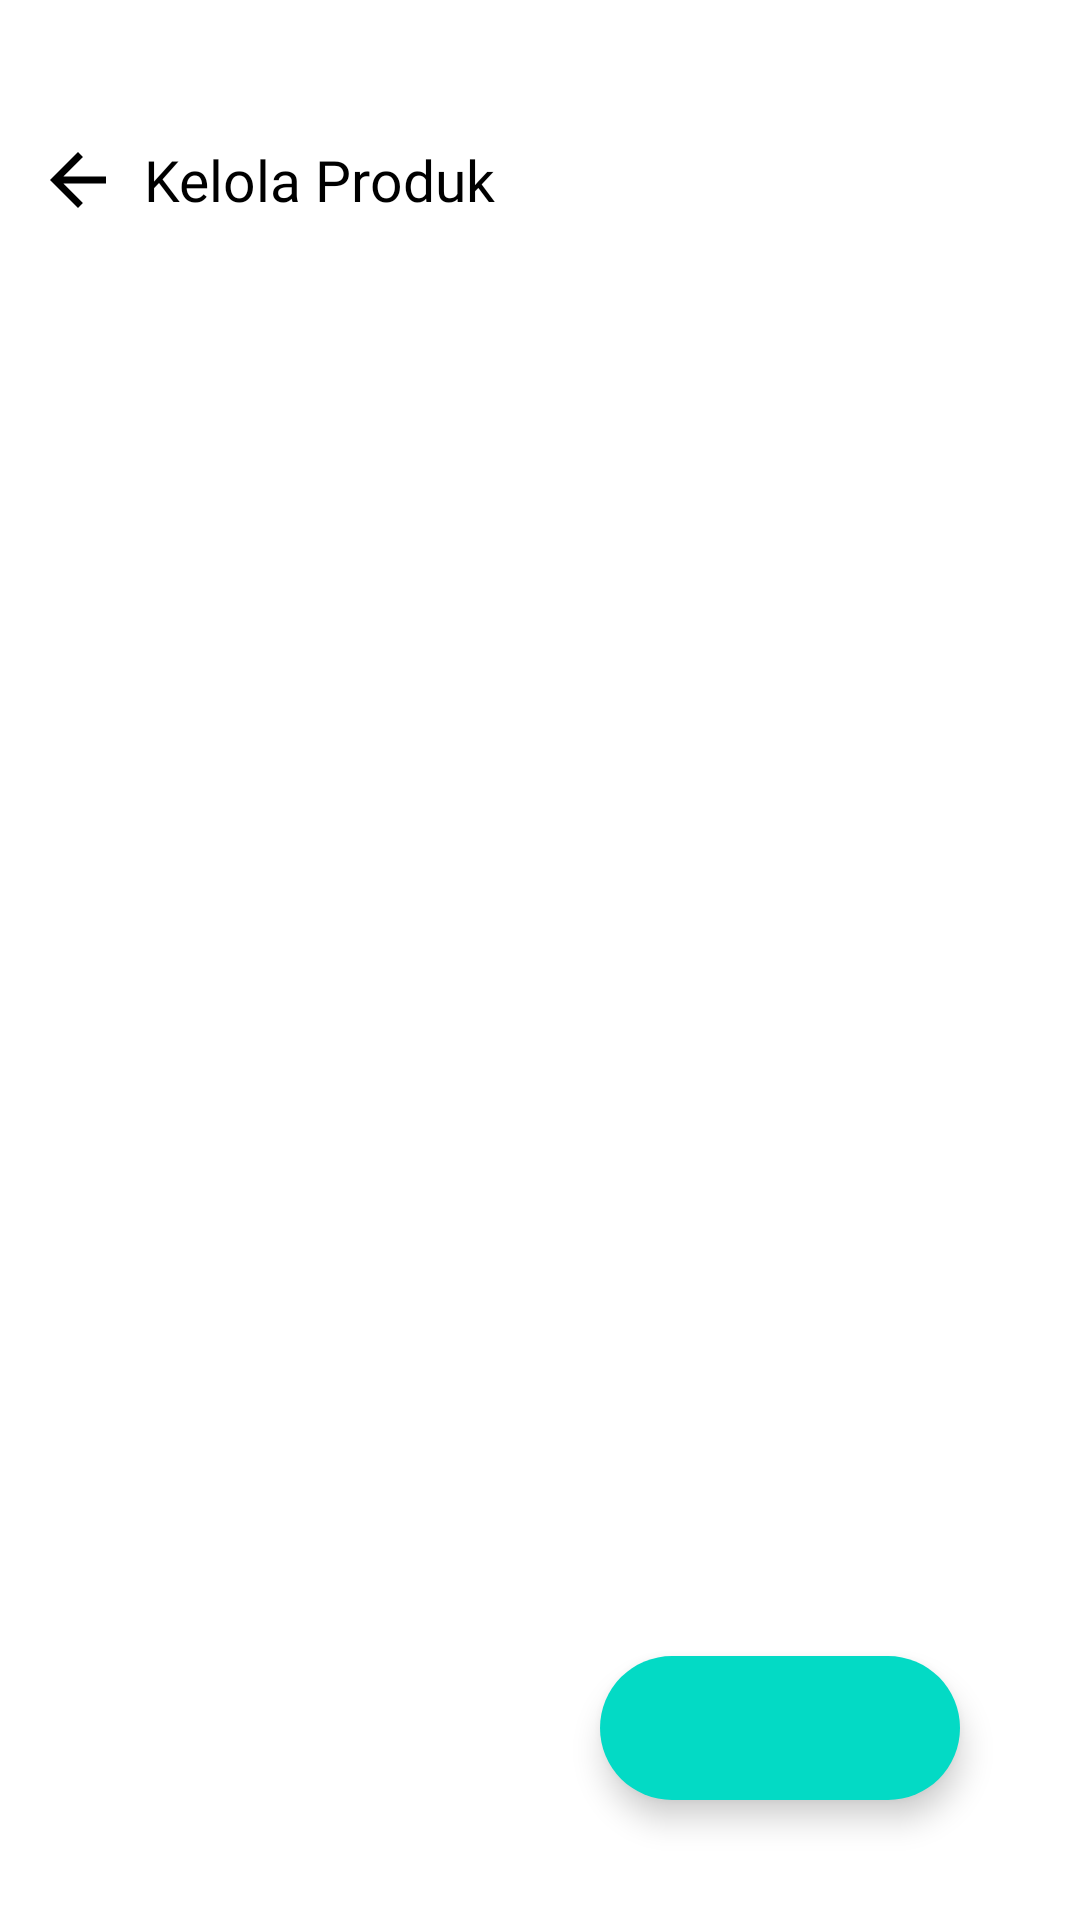

Screen size 1080x1920. Icon name, then its box in pixels as (x1, y1, x2, y2):
arrow back: (50, 152, 106, 208)
